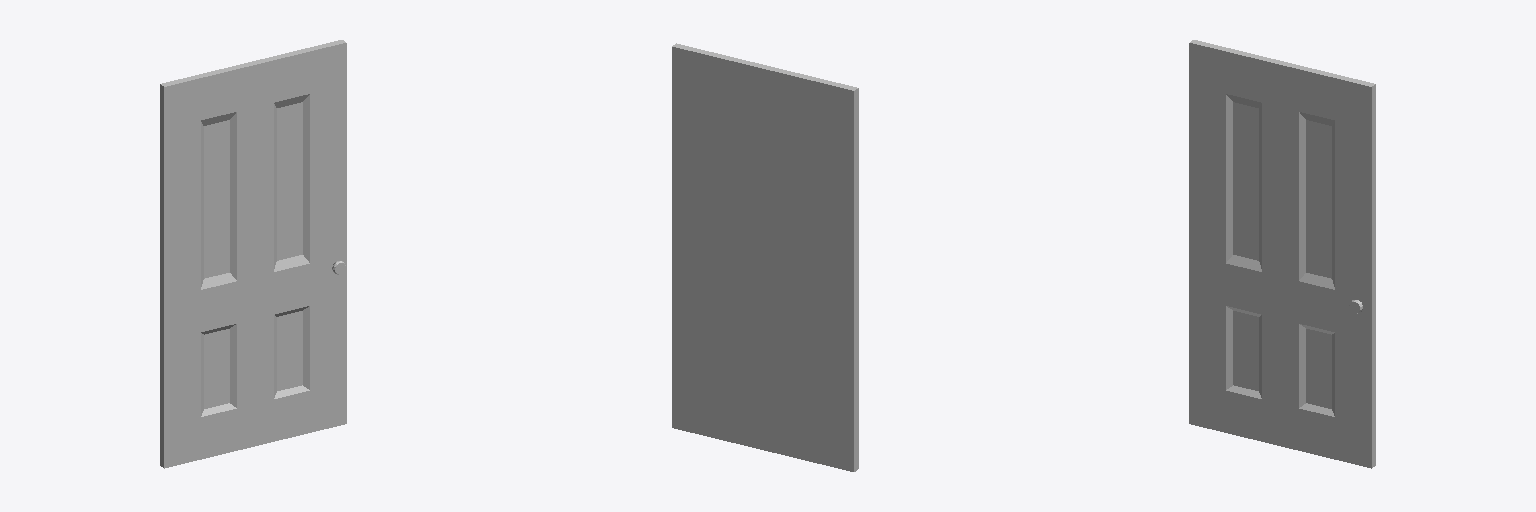
File: porte.obj
3 views of the same model, side by side, from view 1: azimuth 30°, elevation 25°; view 2: azimuth 150°, elevation 25°; view 3: azimuth 330°, elevation 25° (orthographic).
Bounding box in the file's own units: 1 × 2 × 0.0908.